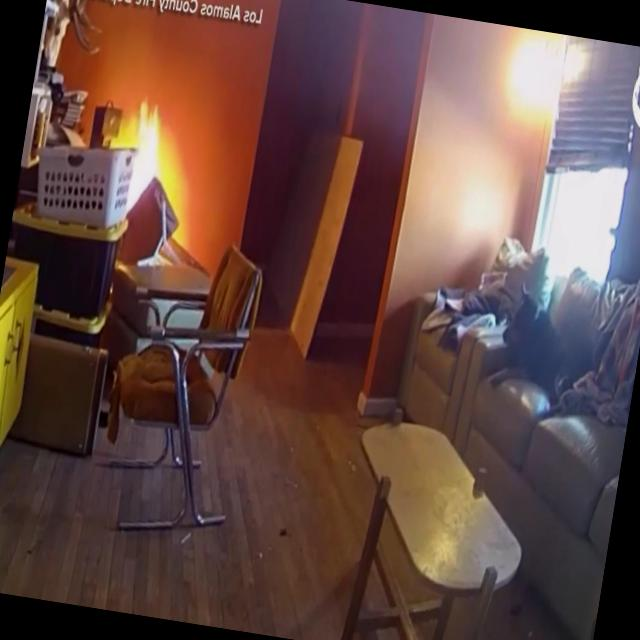fire: (123, 102, 184, 196)
